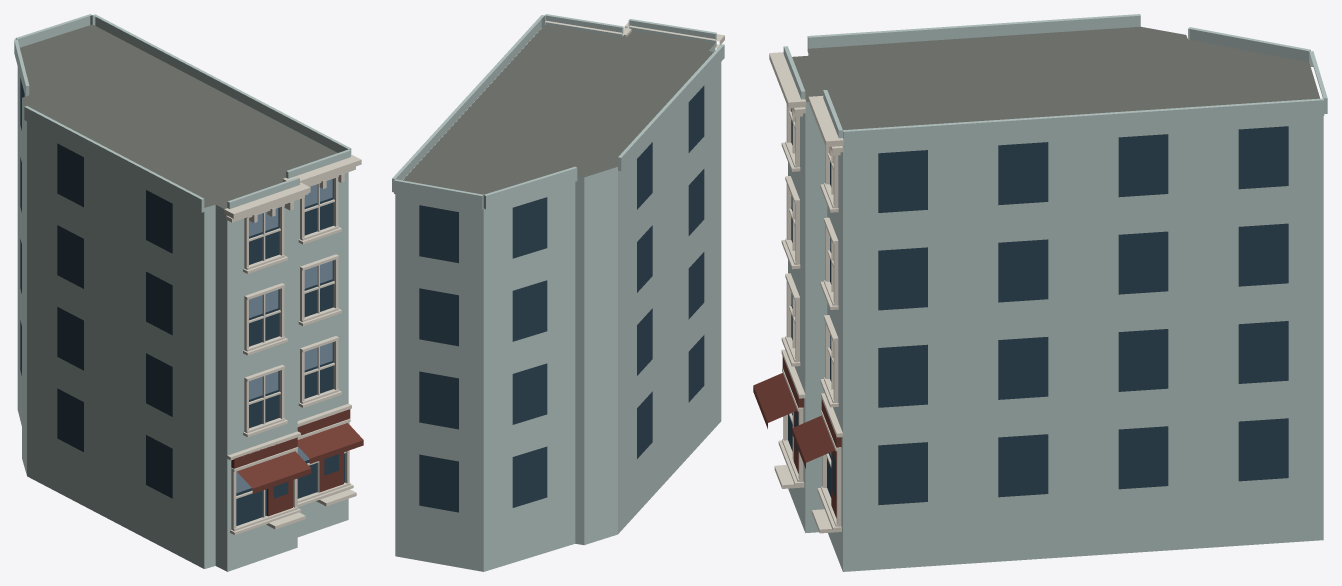
3 renders of one model, left to right at view 1: azimuth 30°, elevation 25°; view 2: azimuth 150°, elevation 25°; view 3: azimuth 270°, elevation 25°, orthographic. The views are drawn at different scales.
Parts seen in each view (by area): view 1: Footprint 0 / surface 2, Footprint 0 / surface 1, Inset glazing, Cornices and window frames, Facade bay volumes, Storefronts and doors, Sky reflection panels; view 2: Footprint 0 / surface 2, Footprint 0 / surface 1, Inset glazing, Facade bay volumes, Cornices and window frames; view 3: Footprint 0 / surface 2, Inset glazing, Footprint 0 / surface 1, Facade bay volumes, Cornices and window frames, Storefronts and doors.
Part boxes in pixels (<box>): Footprint 0 / surface 2: <box>17,67,348,571</box>; Footprint 0 / surface 1: <box>20,24,337,208</box>; Inset glazing: <box>20,78,344,525</box>; Cornices and window frames: <box>224,155,361,534</box>; Facade bay volumes: <box>14,14,351,212</box>; Storefronts and doors: <box>231,409,363,516</box>; Sky reflection panels: <box>236,179,332,493</box>; Footprint 0 / surface 2: <box>395,44,721,571</box>; Footprint 0 / surface 1: <box>403,25,714,194</box>; Inset glazing: <box>419,85,704,512</box>; Facade bay volumes: <box>392,14,724,209</box>; Cornices and window frames: <box>545,20,724,48</box>; Footprint 0 / surface 2: <box>788,49,1323,571</box>; Inset glazing: <box>788,110,1288,505</box>; Footprint 0 / surface 1: <box>792,26,1319,129</box>; Facade bay volumes: <box>783,14,1327,147</box>; Cornices and window frames: <box>769,52,843,533</box>; Storefronts and doors: <box>753,356,841,518</box>.
Size of the model in its own units: 8.15 by 14.03 by 16.53.
